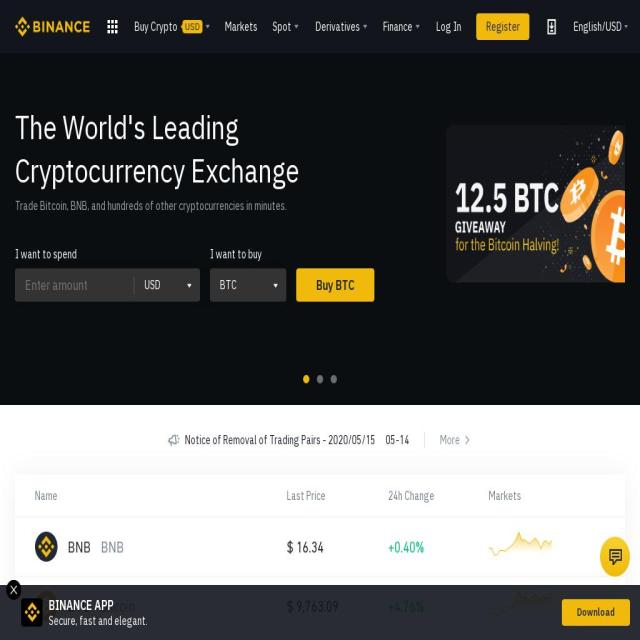button: (15, 576, 625, 636), (15, 518, 625, 576), (446, 124, 636, 283), (168, 432, 410, 448), (296, 268, 374, 302), (15, 636, 625, 640), (562, 599, 630, 626), (476, 13, 530, 40), (440, 433, 472, 447)
field: (210, 268, 286, 302), (134, 268, 200, 302), (15, 277, 134, 293)
image: (446, 124, 636, 283), (489, 590, 569, 622), (489, 531, 569, 562), (15, 16, 90, 36), (35, 532, 57, 562), (35, 591, 57, 621), (608, 536, 623, 576), (22, 598, 42, 627), (105, 16, 120, 36), (544, 16, 559, 36), (168, 432, 180, 448), (184, 278, 195, 294), (270, 278, 281, 294), (291, 20, 302, 33), (359, 20, 370, 33), (9, 582, 19, 596), (462, 433, 472, 447), (202, 20, 212, 33), (413, 20, 423, 33), (621, 20, 630, 33), (303, 375, 309, 383), (317, 375, 323, 383), (331, 375, 337, 383)
link: (225, 20, 258, 33), (436, 20, 462, 33)
text: (15, 148, 415, 192), (15, 105, 415, 148), (49, 597, 552, 613), (49, 614, 552, 628), (15, 198, 415, 214), (35, 488, 287, 504), (15, 246, 200, 262), (185, 433, 376, 447), (315, 0, 360, 53), (133, 0, 177, 53), (388, 536, 490, 556), (388, 596, 490, 616), (287, 536, 388, 556), (287, 596, 388, 616), (489, 488, 615, 504), (388, 488, 490, 504), (287, 488, 388, 504), (383, 0, 413, 53), (210, 246, 286, 262), (272, 0, 291, 53), (99, 596, 135, 616), (100, 536, 124, 556), (68, 536, 90, 556), (68, 596, 90, 616), (573, 20, 602, 33), (386, 433, 410, 447), (440, 433, 460, 447), (182, 20, 202, 33), (605, 20, 622, 33), (601, 20, 606, 33)
